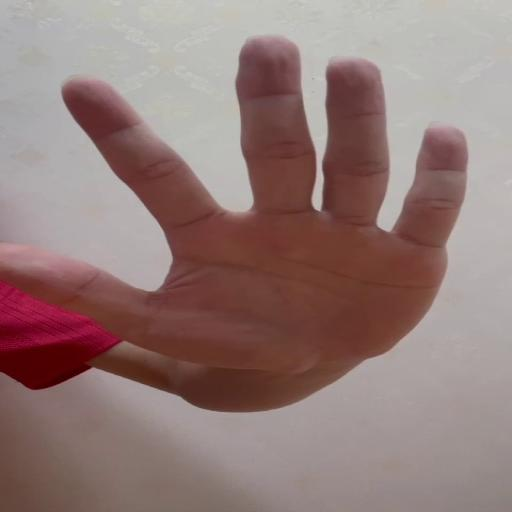open_palm: (2, 34, 472, 371)
